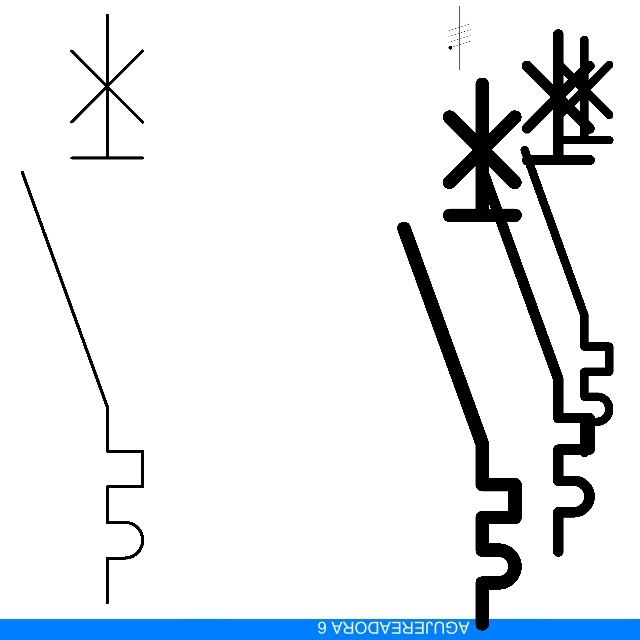interruptor_termomagnetico: (7, 0, 158, 618), (390, 70, 529, 638), (470, 21, 603, 565), (514, 29, 620, 464)
